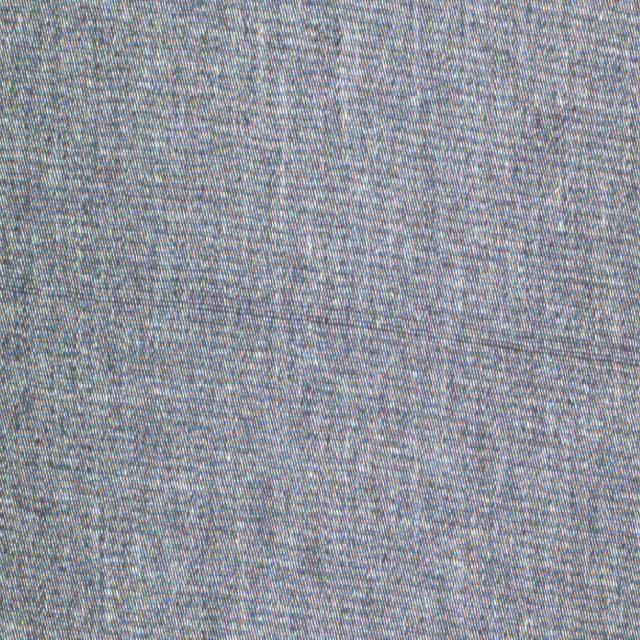Line: (0, 275, 637, 377)
